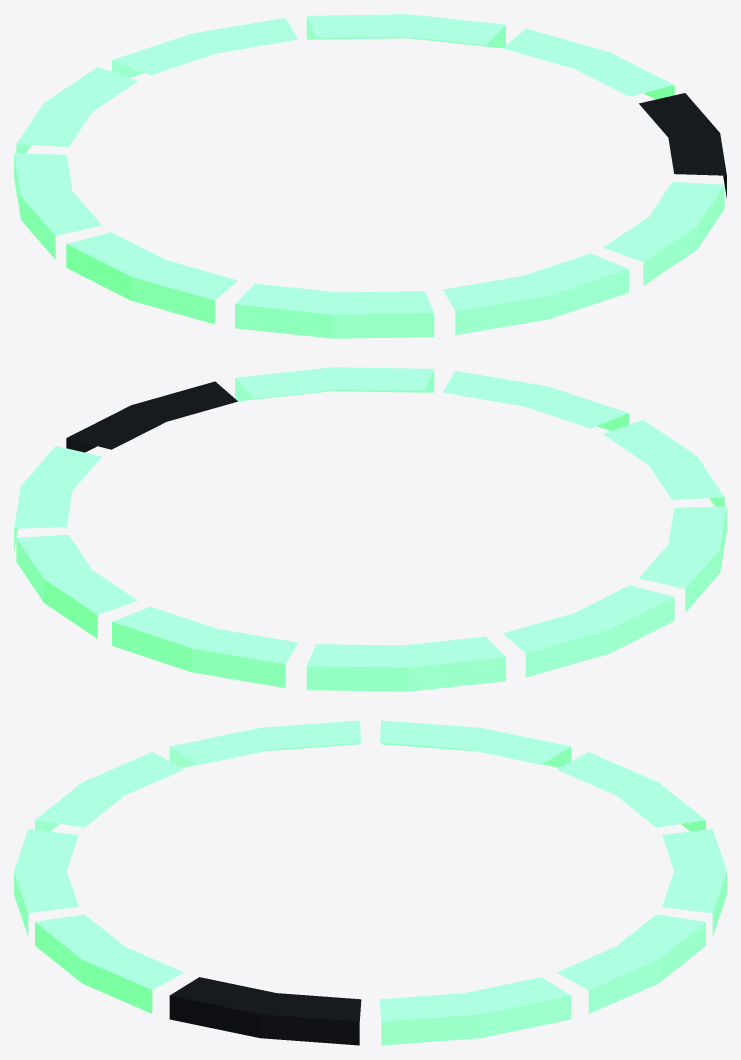
Rendered from hpr_9.glb.
The picture shows the model from 3 angles, top to bottom: view 1: azimuth 30°, elevation 25°; view 2: azimuth 150°, elevation 25°; view 3: azimuth 270°, elevation 25°; orthographic projection.
Parts seen in each view (by area): view 1: hpr_9; view 2: hpr_9; view 3: hpr_9.
Part boxes in pixels (x1=…): hpr_9: x1=14, y1=14, x2=726, y2=338; hpr_9: x1=14, y1=367, x2=726, y2=691; hpr_9: x1=14, y1=720, x2=726, y2=1045.
Size of the model in its own units: 2.16 by 0.08 by 2.16.
